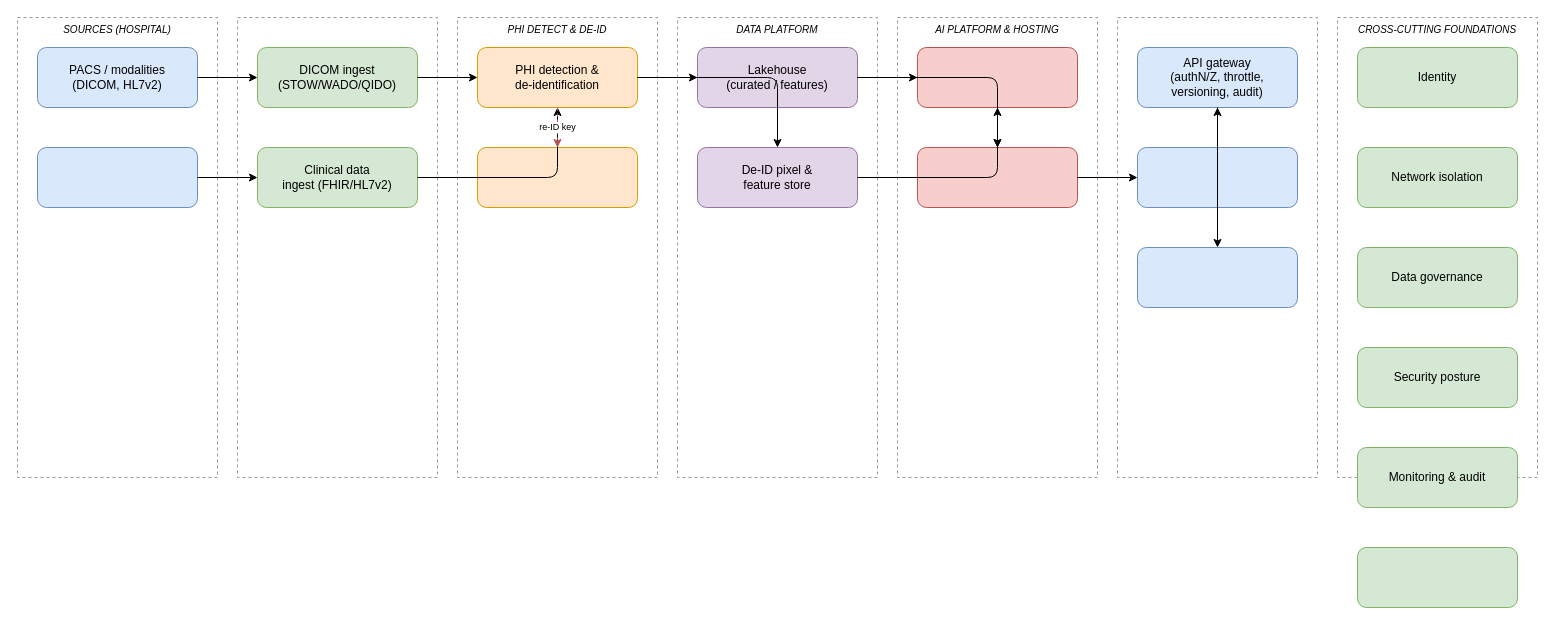
The diagram is 1555 pixels wide and 625 high, and some of its shapes have lost their labels. Here are the shapes that lost their labels. From the top down, the box of each, then its label:
(916, 46, 1078, 108): Model catalog (VLMs, vision, custom)
(36, 146, 198, 208): EHR / reports / notes (multimodal)
(476, 146, 638, 208): Re-identification key (segregated)
(916, 146, 1078, 208): Model hosting & orchestration
(1136, 146, 1298, 208): Inference / business-logic services
(236, 16, 438, 478): INGESTION
(1116, 16, 1318, 478): API EXPOSURE
(1136, 246, 1298, 308): Clinician apps / downstream systems
(1356, 546, 1518, 608): Responsible AI guardrails
